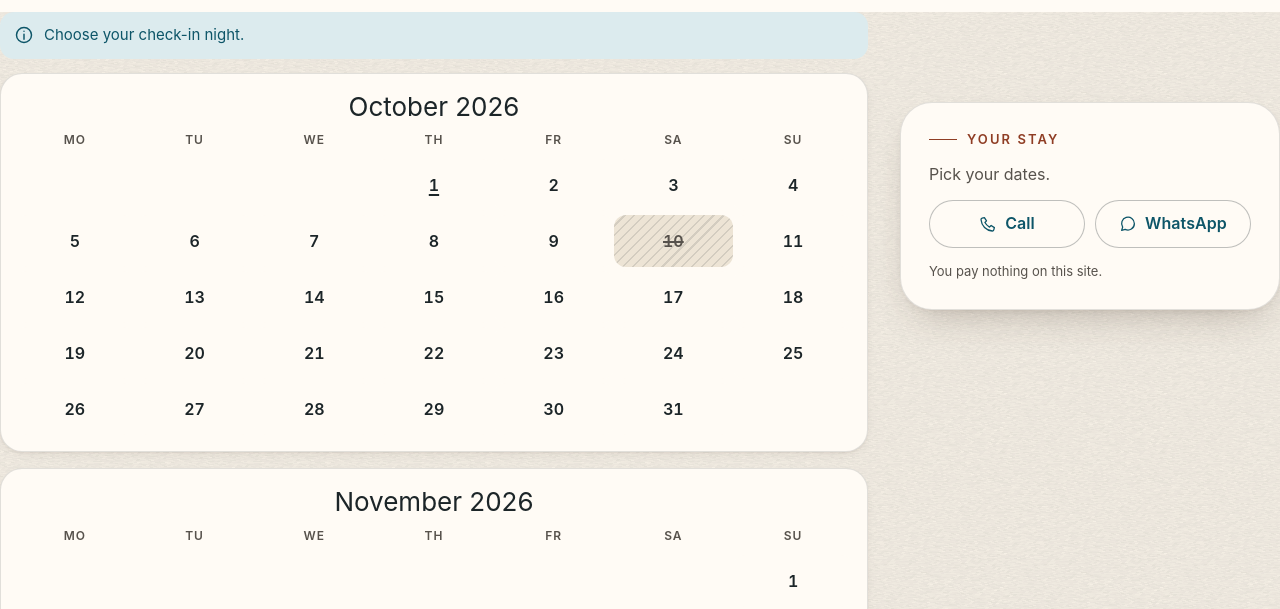
Test: AvailabilityPlanner › applies the crossing rule: a day past a booked night becomes the new check-in
Click the button "7" below "October 2026" at (314, 241), box x1=254 y1=215 x2=374 y2=267
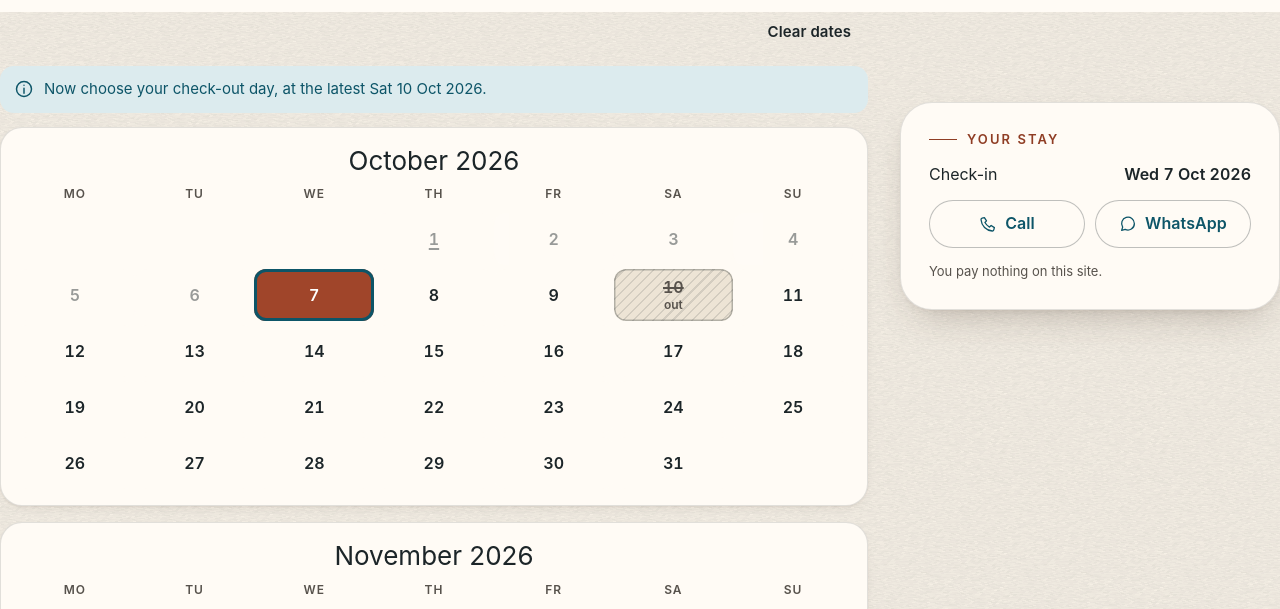
expect the text "Now choose your check-out day, at the latest Sat 10 Oct 2026." is shown: met, box x1=44 y1=78 x2=486 y2=100
Click the button "12" below "October 2026" at (75, 351), box x1=15 y1=325 x2=135 y2=377
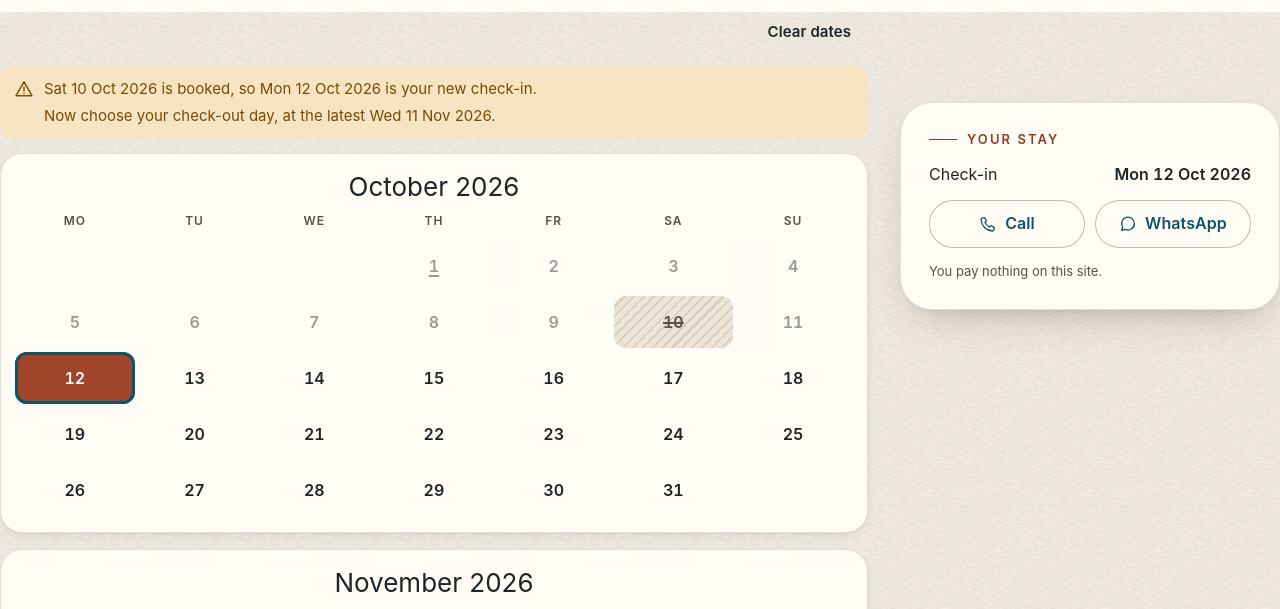
expect the text "Sat 10 Oct 2026 is booked, so Mon 12 Oct 2026 is your new check-in." is shown: met, box x1=44 y1=78 x2=537 y2=100
expect the text "Mon 12 Oct 2026" is shown: met, box x1=1114 y1=162 x2=1251 y2=186
